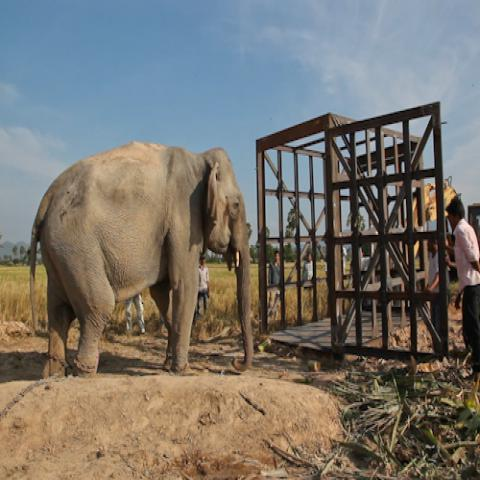truck: (467, 202, 479, 248)
